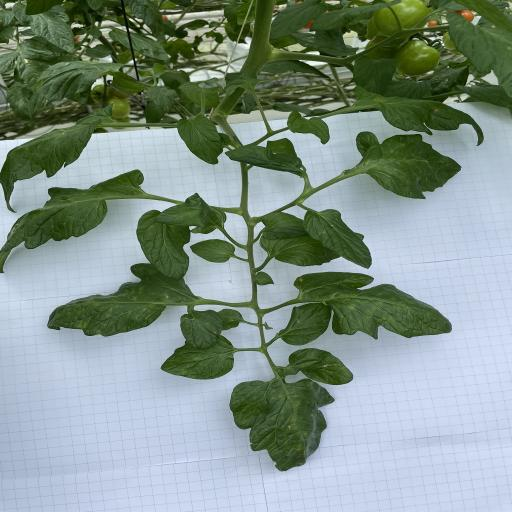Healthy: (0, 114, 110, 214), (356, 132, 462, 200), (136, 210, 190, 281), (13, 2, 75, 53), (155, 192, 227, 234), (310, 0, 401, 32), (260, 234, 342, 267), (224, 145, 304, 176), (177, 114, 223, 165), (270, 0, 328, 40), (122, 0, 167, 45), (353, 55, 398, 94), (286, 110, 330, 145), (262, 59, 331, 80), (190, 239, 236, 263), (262, 212, 304, 238), (180, 82, 220, 108), (147, 84, 178, 113), (112, 71, 145, 93)
